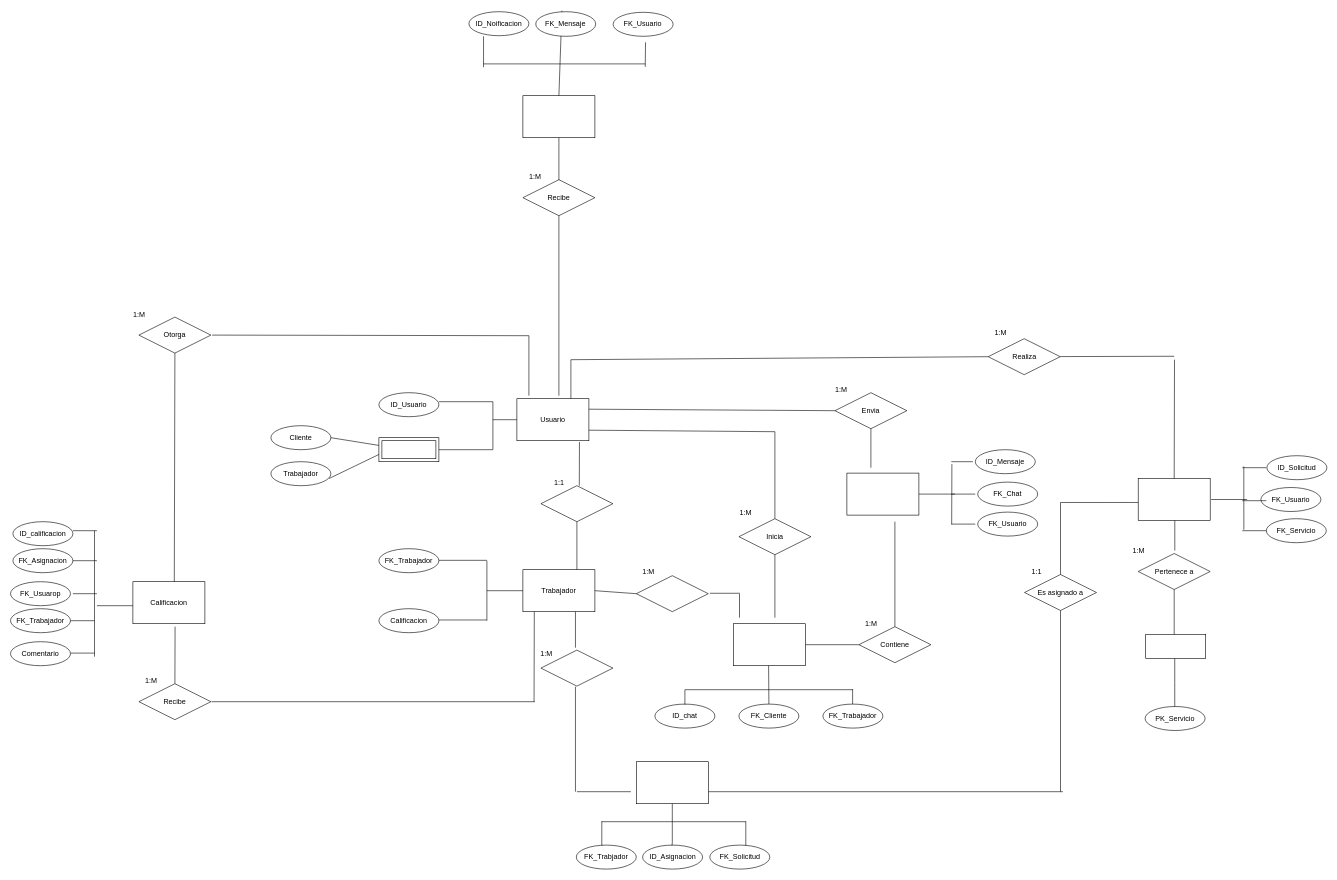
The diagram is 1337 pixels wide and 880 high, and some of its shapes have lost their labels. Each missing label, with the box of its shape:
Asignacion_servicio: (636, 761, 709, 804)
Atiende: (540, 650, 613, 686)
Chat: (733, 623, 806, 666)
FK_TipoUsuario: (378, 437, 439, 462)
Mensaje: (846, 472, 919, 515)
Notificacion: (522, 95, 595, 138)
Responde: (636, 575, 708, 612)
Se convierte: (540, 485, 613, 522)
servicio: (1145, 634, 1206, 658)
Solicitud_Servicio: (1138, 478, 1210, 520)
